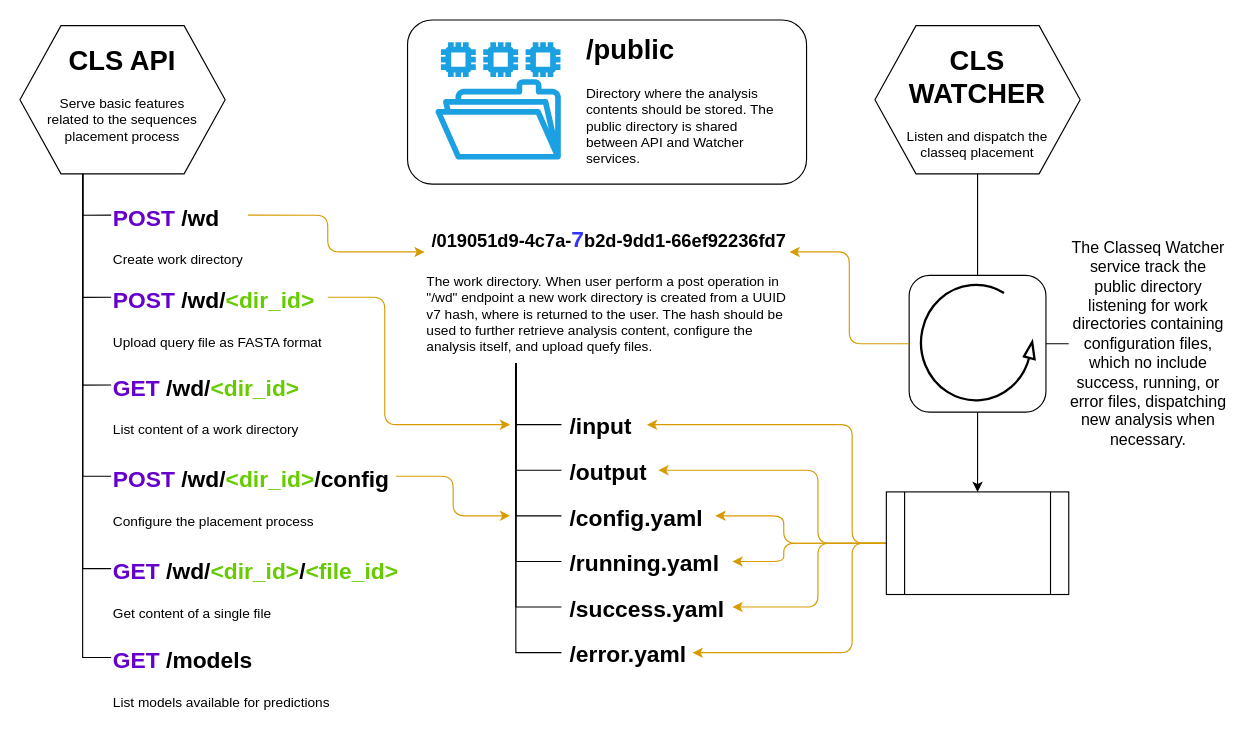
This 1248x747 diagram has some shape labels left out. The box of each missing label's shape, as (x1, y1, x2, y2) in pixels:
Background Classeq Placement: (885, 491, 1069, 595)
Infinite loop: (919, 283, 1035, 401)
